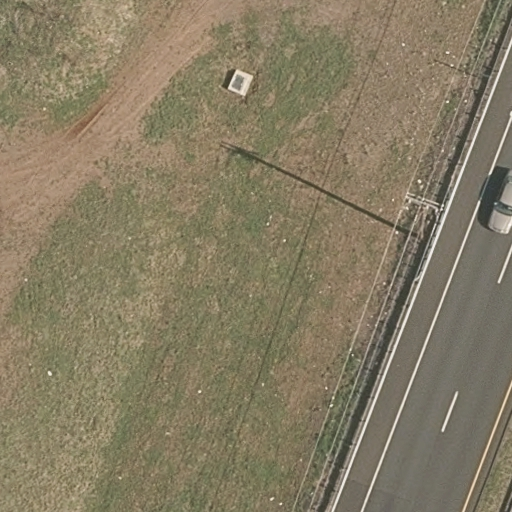DT: (399, 185, 454, 247)
